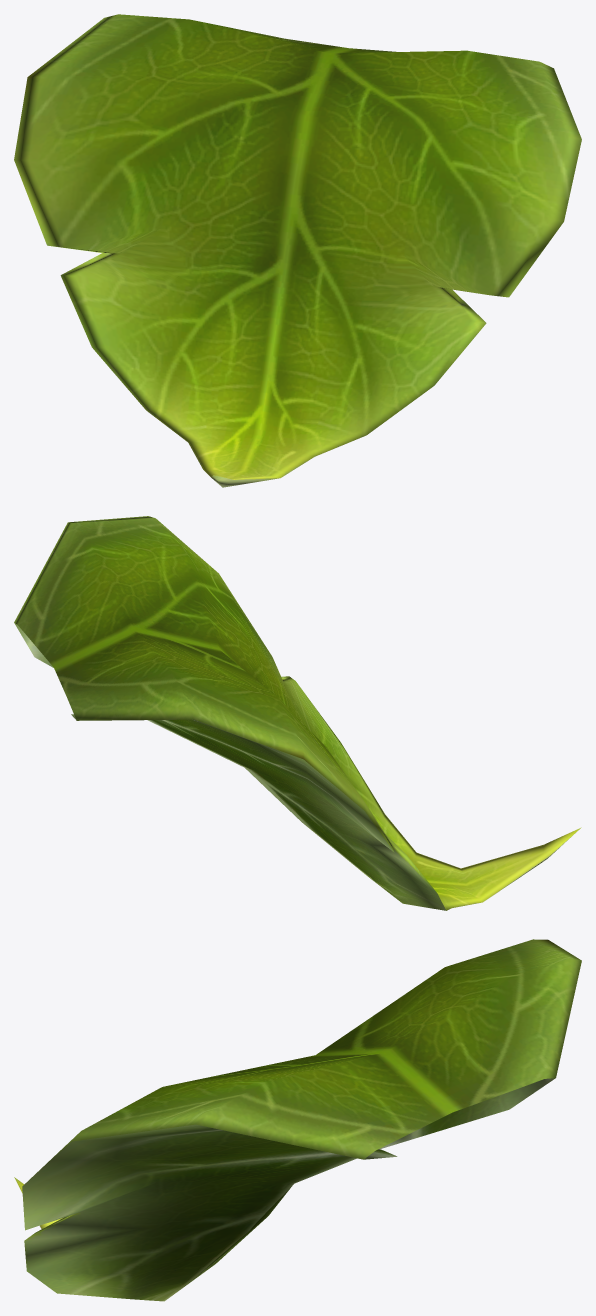
Rendered from sunflower2_hoja_del_der.obj.
3 renders of one model, top to bottom at view 1: azimuth 30°, elevation 25°; view 2: azimuth 150°, elevation 25°; view 3: azimuth 270°, elevation 25°, orthographic. The views are drawn at different scales.
Parts seen in each view (by area): view 1: sunflower2_hoja_del_der; view 2: sunflower2_hoja_del_der; view 3: sunflower2_hoja_del_der.
Part boxes in pixels (box(x1,y1,x2,y2)): sunflower2_hoja_del_der: box(14, 14, 581, 487); sunflower2_hoja_del_der: box(14, 516, 581, 910); sunflower2_hoja_del_der: box(14, 939, 581, 1301).
Bounding box in the file's own units: 0.3894 × 0.2802 × 0.3901.
